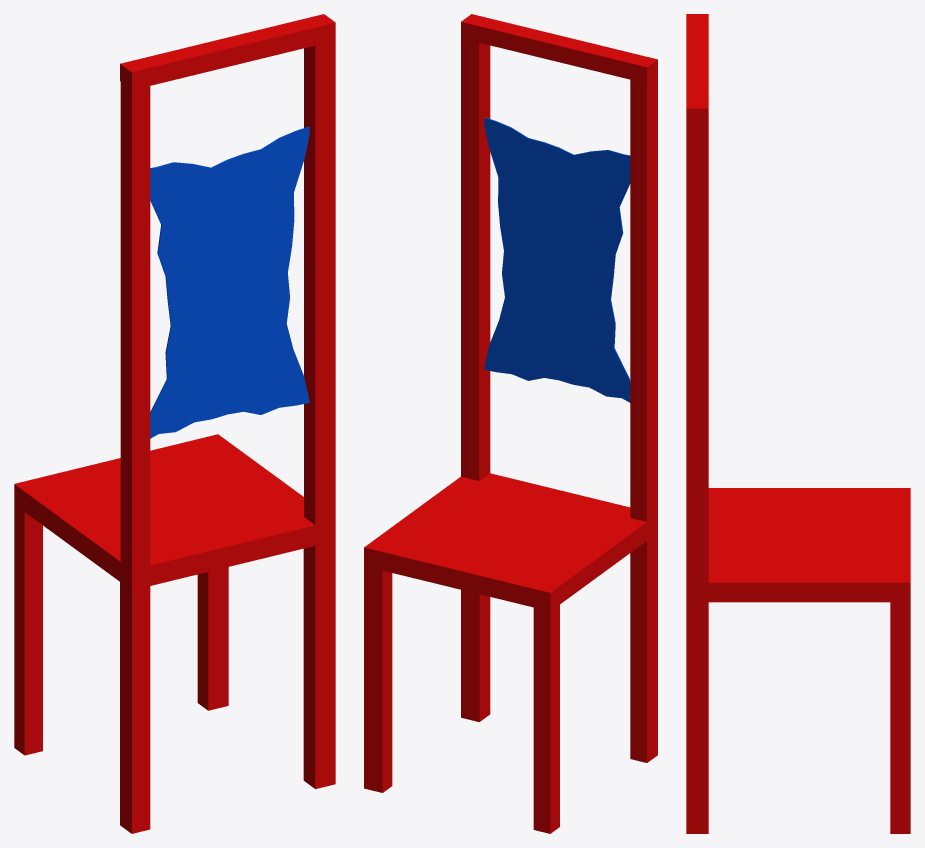
File: ass_cha_v00_UV.fbx
3 renders of one model, left to right at view 1: azimuth 30°, elevation 25°; view 2: azimuth 150°, elevation 25°; view 3: azimuth 270°, elevation 25°, orthographic. The views are drawn at different scales.
Visible parts, largest first — view 1: pPlane1; view 2: pPlane1; view 3: pPlane1.
Part boxes in pixels (x1,y1,x2,y2): pPlane1: (14, 14, 335, 833); pPlane1: (364, 14, 657, 833); pPlane1: (686, 14, 910, 833).
Bounding box in the file's own units: 7.83 × 27.96 × 7.83.
